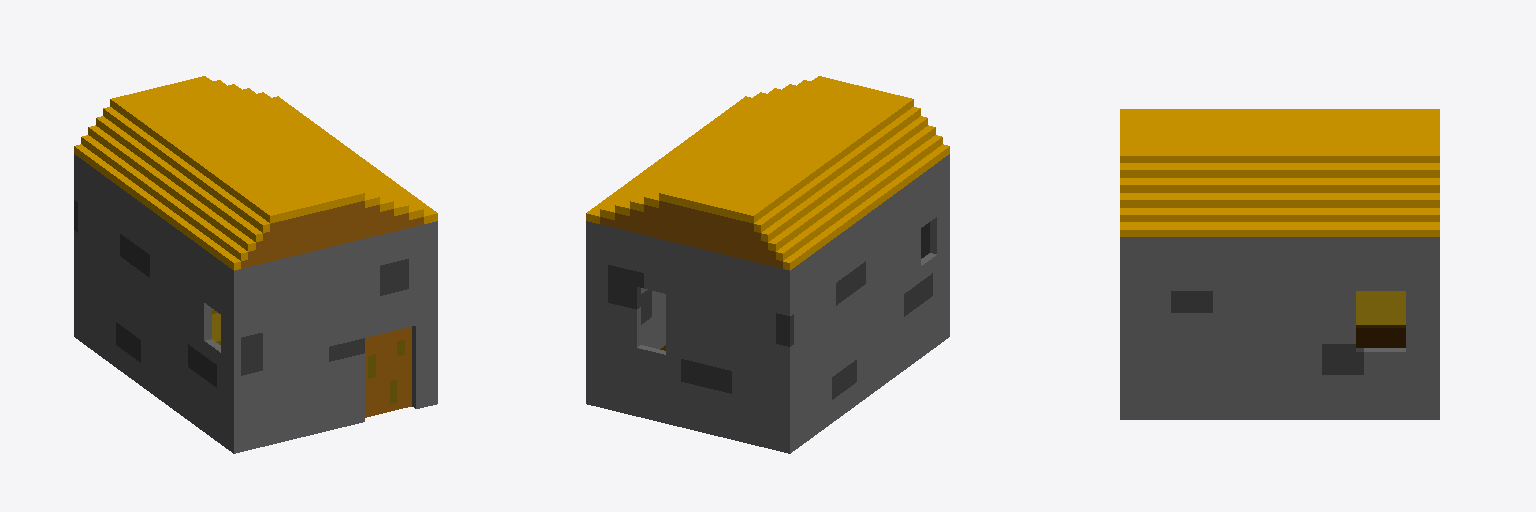
3 renders of one model, left to right at view 1: azimuth 30°, elevation 25°; view 2: azimuth 150°, elevation 25°; view 3: azimuth 270°, elevation 25°, orthographic.
Visible parts, largest first — view 1: object 1; view 2: object 1; view 3: object 1.
Part boxes in pixels (x1,y1,x2,y2): object 1: (74,76,437,453); object 1: (586,76,949,453); object 1: (1120,109,1439,419).
Size of the model in its own units: 2.8 by 3 by 3.8.
1 materials, 1 textured.